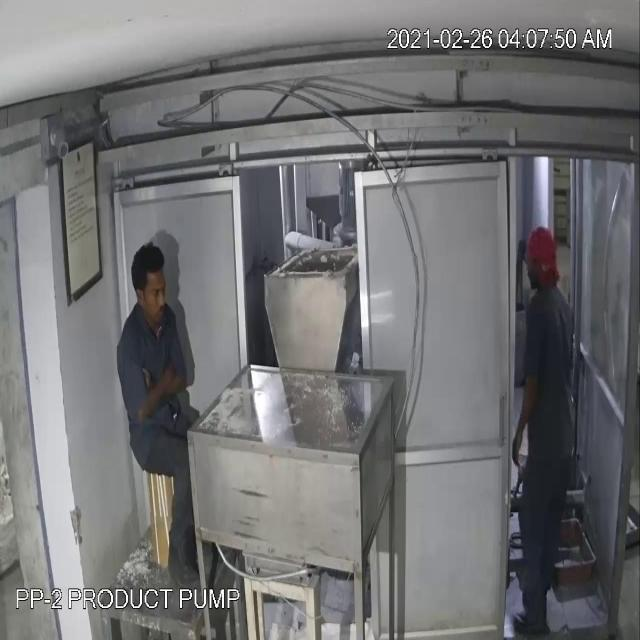no-helmet: (126, 240, 170, 305), (520, 218, 562, 276)
